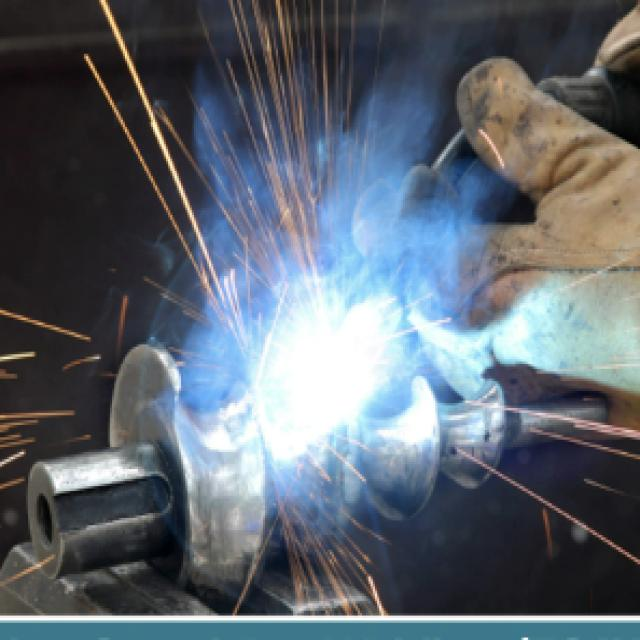welding: (262, 308, 382, 440)
